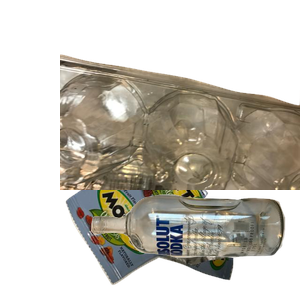glass: (88, 192, 300, 300)
metal: (69, 93, 265, 273)
plastic: (60, 52, 300, 232)
trash: (63, 137, 289, 300)
